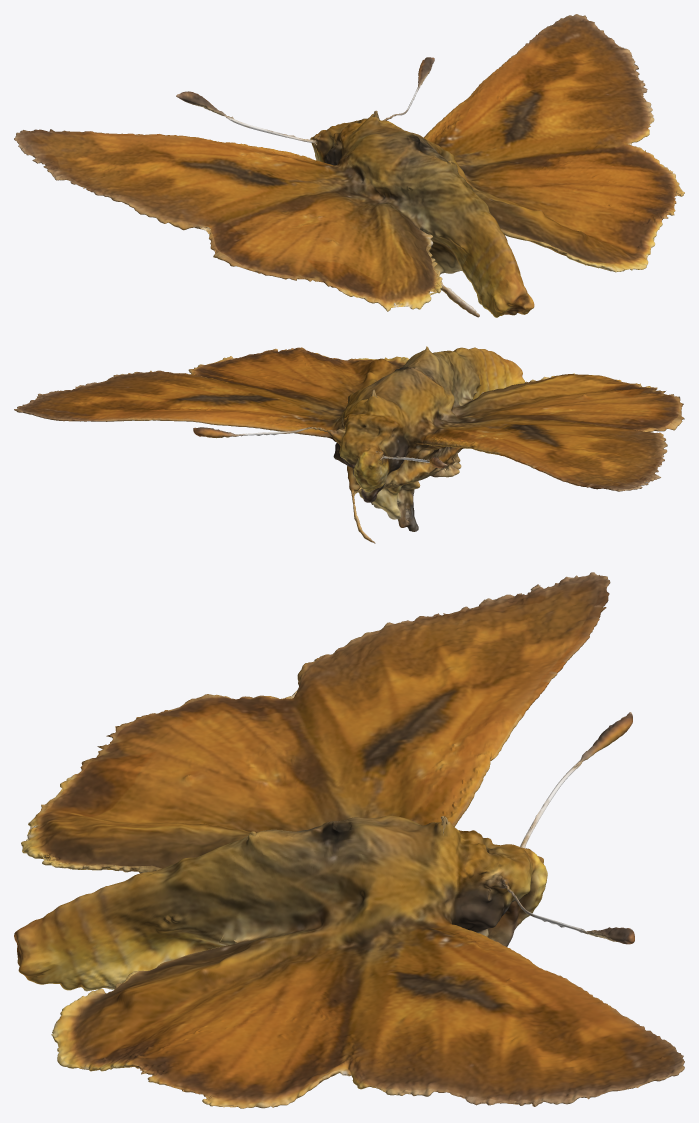
The model's file is woodland_skipperFin.glb.
3 views of the same model, one above another, from view 1: azimuth 30°, elevation 25°; view 2: azimuth 150°, elevation 25°; view 3: azimuth 270°, elevation 25° (orthographic). The views are drawn at different scales.
Parts seen in each view (by area): view 1: Object_3, Object_2, Object_4, Object_5, Object_6; view 2: Object_3, Object_2, Object_4, Object_5, Object_6; view 3: Object_3, Object_2, Object_4, Object_5, Object_6.
Part boxes in pixels (x1,y1,x2,y2): Object_3: [20, 24, 682, 314]; Object_2: [20, 14, 663, 309]; Object_4: [14, 63, 679, 317]; Object_5: [16, 20, 684, 316]; Object_6: [15, 24, 680, 317]; Object_3: [43, 347, 684, 531]; Object_2: [14, 346, 667, 518]; Object_4: [109, 349, 665, 519]; Object_5: [17, 346, 667, 542]; Object_6: [30, 348, 679, 543]; Object_3: [18, 579, 672, 1105]; Object_2: [23, 579, 684, 1095]; Object_4: [14, 572, 632, 1099]; Object_5: [18, 575, 670, 1108]; Object_6: [16, 572, 679, 1107].
Bounding box in the file's own units: 1.45 × 0.3904 × 0.9248.
Materials: 1 (1 with a texture image).
